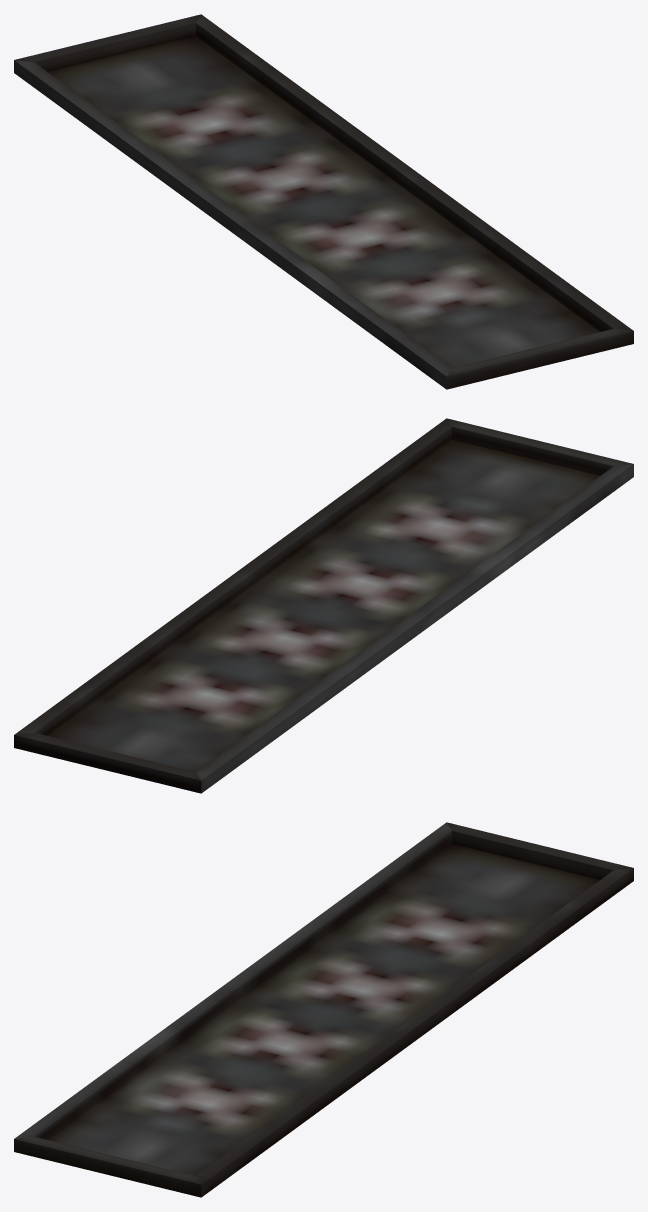
The model's file is Panel_15.FBX.
3 views of the same model, one above another, from view 1: azimuth 30°, elevation 25°; view 2: azimuth 150°, elevation 25°; view 3: azimuth 330°, elevation 25° (orthographic).
Parts seen in each view (by area): view 1: Panel_15; view 2: Panel_15; view 3: Panel_15.
Boxes of the visible parts, x1,y1,x2,y2 form: Panel_15: (14,14,633,389); Panel_15: (14,418,633,793); Panel_15: (14,822,633,1197).
Bounding box in the file's own units: 50 × 3.31 × 200.
